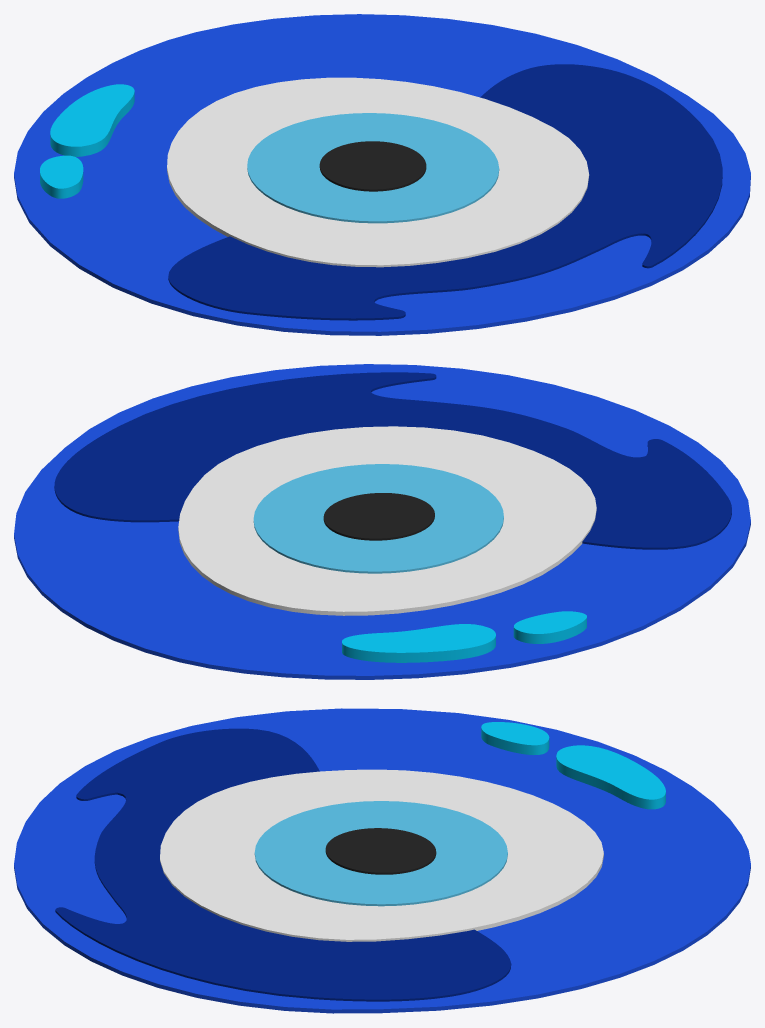
Rendered from emoji_u1f9ff.glb.
3 renders of one model, top to bottom at view 1: azimuth 30°, elevation 25°; view 2: azimuth 150°, elevation 25°; view 3: azimuth 270°, elevation 25°, orthographic. The views are drawn at different scales.
Parts seen in each view (by area): view 1: emoji_u1f9ff; view 2: emoji_u1f9ff; view 3: emoji_u1f9ff.
Part boxes in pixels (x1=…): emoji_u1f9ff: x1=14, y1=14, x2=750, y2=335; emoji_u1f9ff: x1=14, y1=364, x2=750, y2=679; emoji_u1f9ff: x1=14, y1=708, x2=750, y2=1013.
Bounding box in the file's own units: 0.0327 × 0.0012 × 0.0339.
